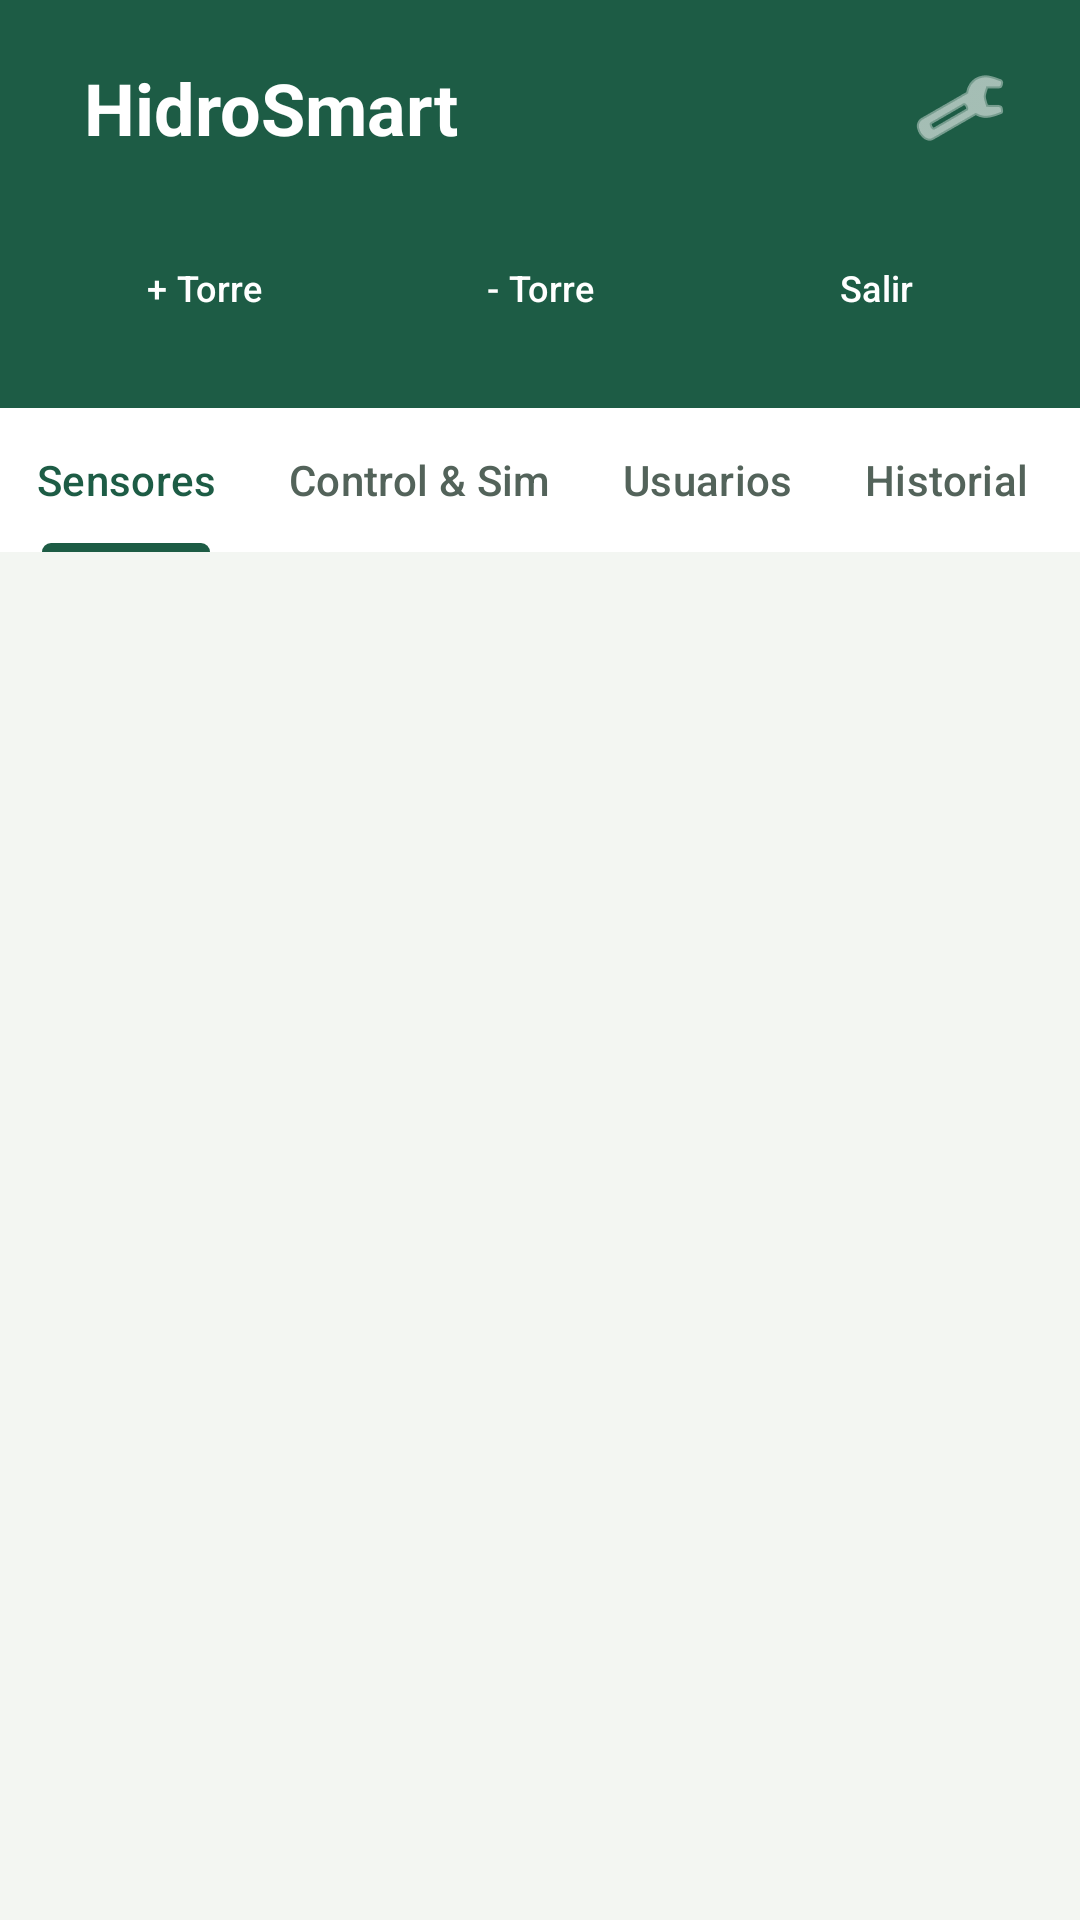

Where icons sit on this 1080 x 1920 app screen, as (x1, y1, x2, y2):
Ajustes: (917, 75, 1003, 141)
